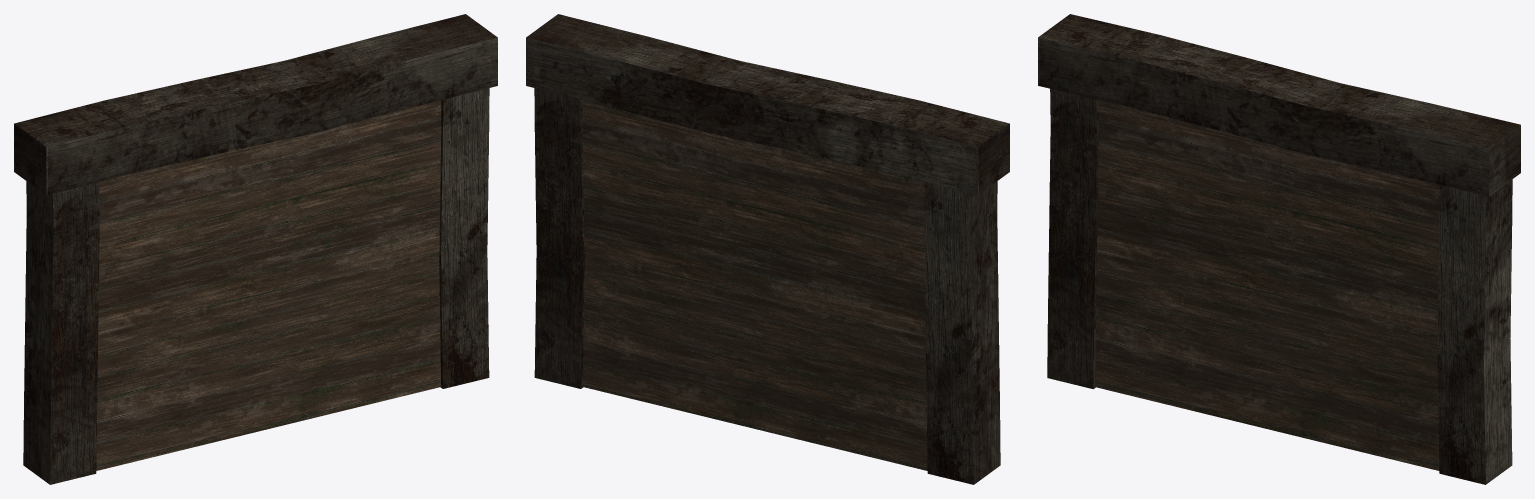
The model's file is WoodWall2.fbx.
3 renders of one model, left to right at view 1: azimuth 30°, elevation 25°; view 2: azimuth 150°, elevation 25°; view 3: azimuth 330°, elevation 25°, orthographic.
Visible parts, largest first — view 1: Wood Wall 3m; view 2: Wood Wall 3m; view 3: Wood Wall 3m.
Boxes of the visible parts, x1,y1,x2,y2 form: Wood Wall 3m: [14, 14, 497, 484]; Wood Wall 3m: [526, 14, 1009, 484]; Wood Wall 3m: [1038, 14, 1520, 484].
Bounding box in the file's own units: 330 × 239 × 40.57.
